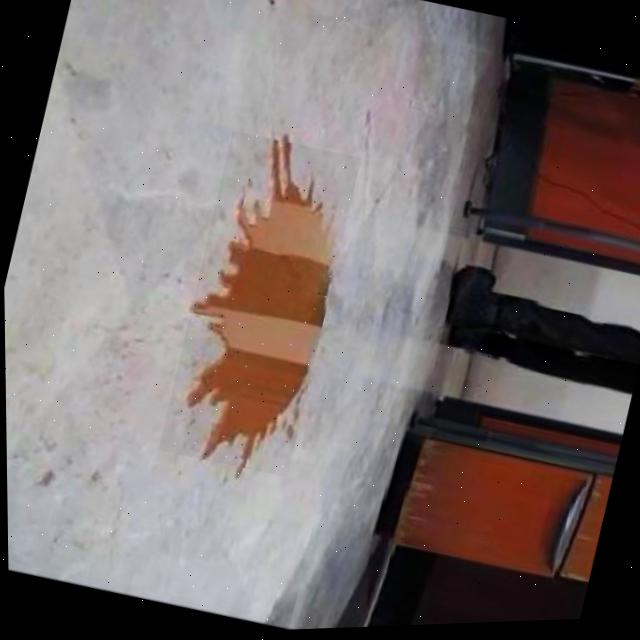spillage: (182, 141, 327, 460)
